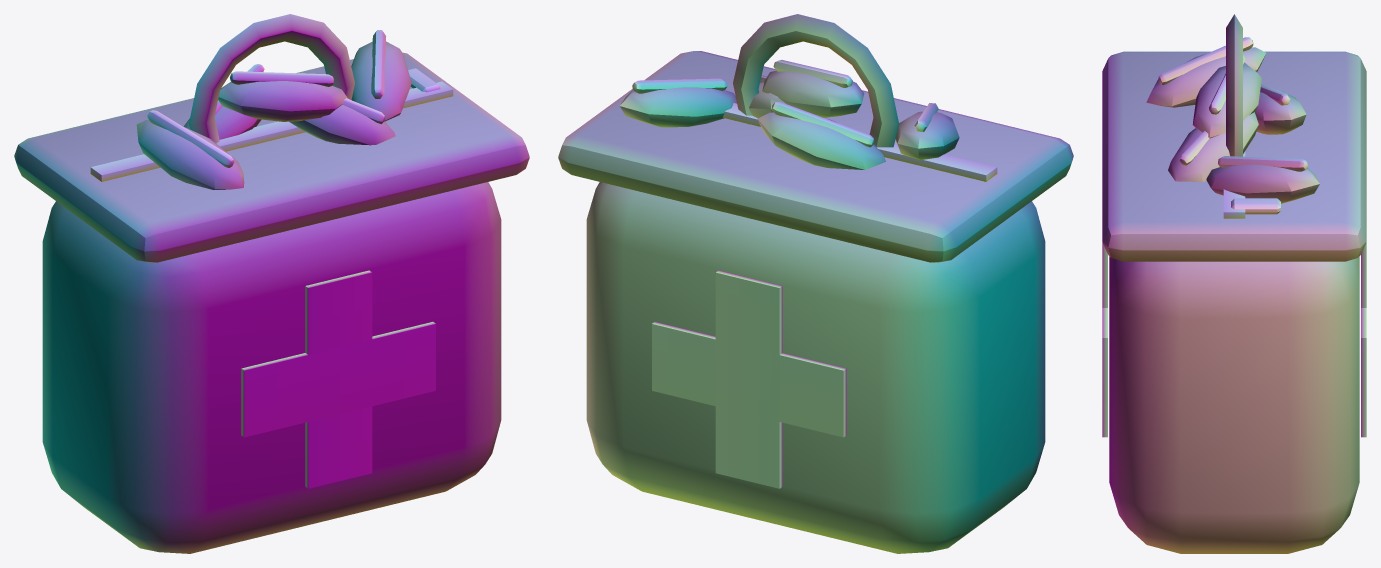
File: gad_medkit.glb
3 renders of one model, left to right at view 1: azimuth 30°, elevation 25°; view 2: azimuth 150°, elevation 25°; view 3: azimuth 270°, elevation 25°, orthographic. The views are drawn at different scales.
Visible parts, largest first — view 1: medkit; view 2: medkit; view 3: medkit.
Boxes of the visible parts, x1=… form: medkit: x1=14, y1=14, x2=529, y2=553; medkit: x1=558, y1=14, x2=1073, y2=553; medkit: x1=1102, y1=14, x2=1366, y2=553.
Size of the model in its own units: 0.124 by 0.1433 by 0.074.
